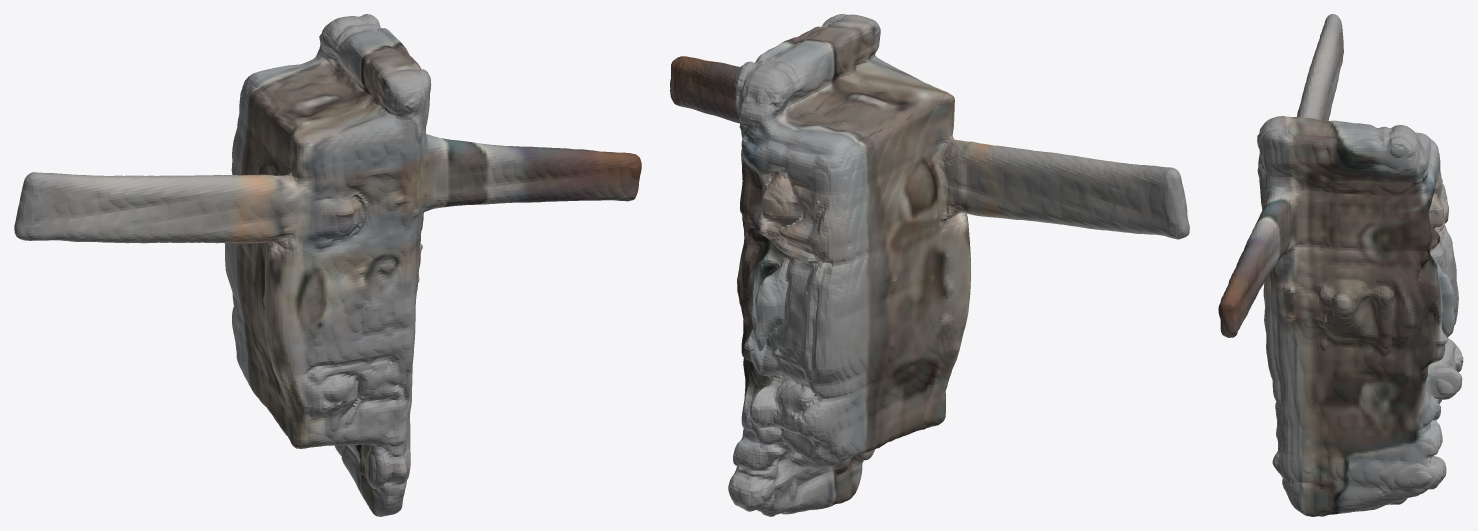
The picture shows the model from 3 angles, left to right: view 1: azimuth 30°, elevation 25°; view 2: azimuth 150°, elevation 25°; view 3: azimuth 270°, elevation 25°; orthographic projection. The views are drawn at different scales.
Visible parts, largest first — view 1: geometry_0; view 2: geometry_0; view 3: geometry_0.
Part boxes in pixels (x1,y1,x2,y2): geometry_0: [14, 14, 641, 516]; geometry_0: [670, 14, 1189, 516]; geometry_0: [1218, 14, 1463, 516].
Bounding box in the file's own units: 0.9775 × 0.754 × 0.4284.
